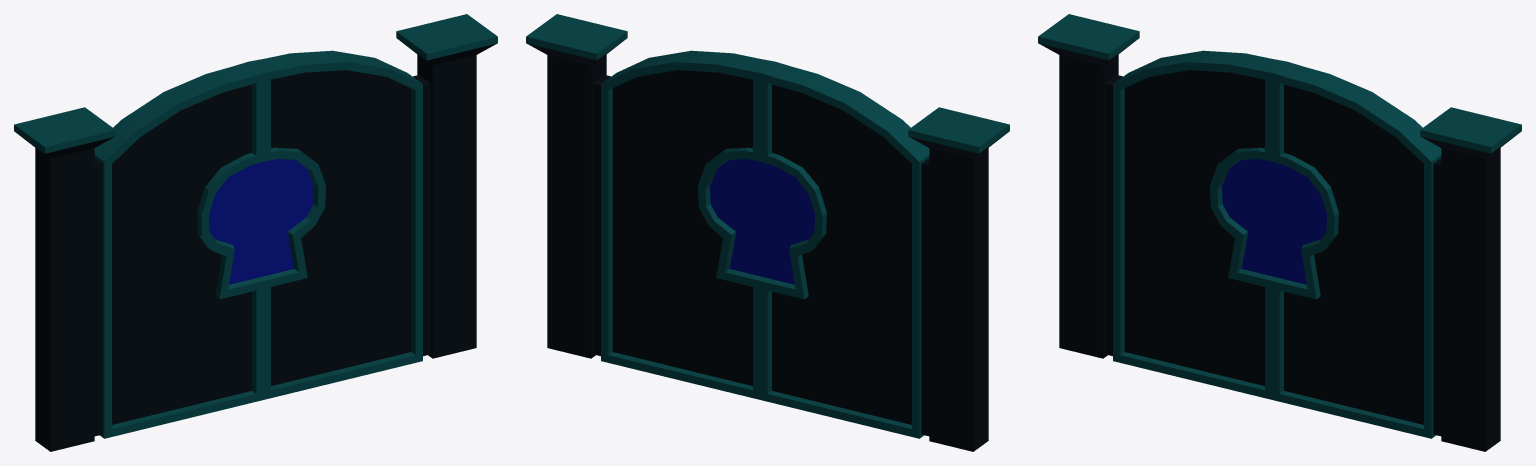
Rendered from Gate.fbx.
The picture shows the model from 3 angles, left to right: view 1: azimuth 30°, elevation 25°; view 2: azimuth 150°, elevation 25°; view 3: azimuth 330°, elevation 25°; orthographic projection.
Parts seen in each view (by area): view 1: polySurface8, polySurface7, polySurface14; view 2: polySurface8, polySurface7, polySurface14; view 3: polySurface7, polySurface8, polySurface14.
Boxes of the visible parts, bbox=[...] form: polySurface8: bbox=[94, 62, 263, 438]; polySurface7: bbox=[248, 50, 430, 399]; polySurface14: bbox=[14, 14, 497, 451]; polySurface8: bbox=[760, 62, 929, 438]; polySurface7: bbox=[593, 50, 775, 399]; polySurface14: bbox=[526, 14, 1009, 451]; polySurface7: bbox=[1272, 62, 1441, 438]; polySurface8: bbox=[1105, 50, 1287, 399]; polySurface14: bbox=[1038, 14, 1521, 451].
Size of the model in its own units: 1046 by 722 by 124.
